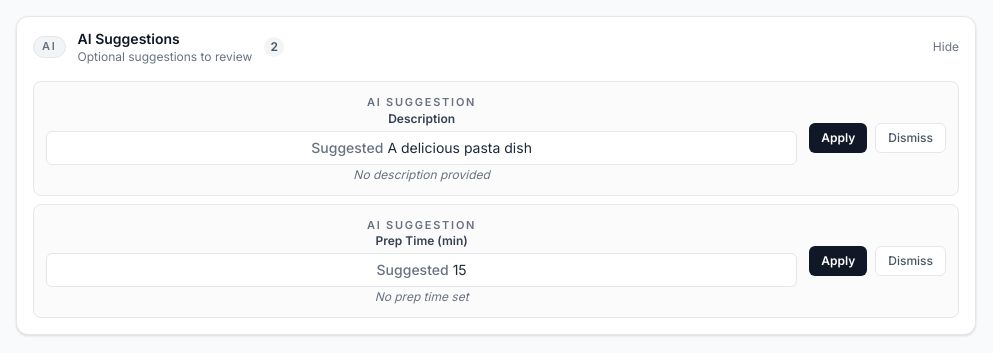
AISuggestionPanel › collapses and expands on header button click
expect the text "A delicious pasta dish" is shown: met, box [387,138,532,156]
Step 1. Click the button "AI AI Suggestions Optional suggestions to review 2 Hide" → (49, 47), box [17,17,975,77]
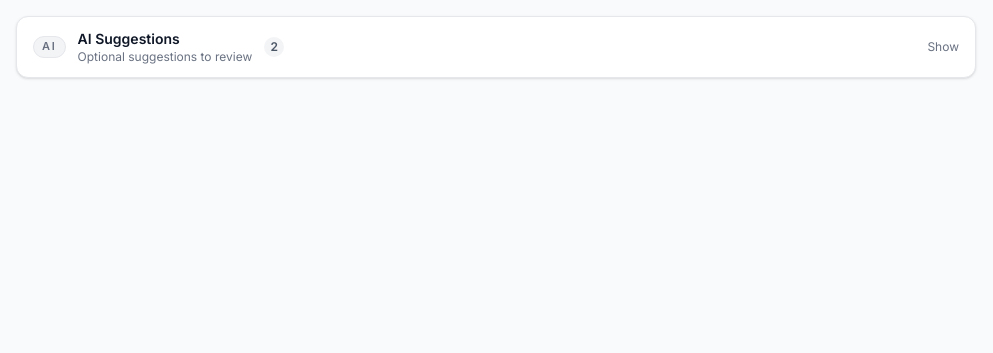
expect the text "A delicious pasta dish" is gone: met
